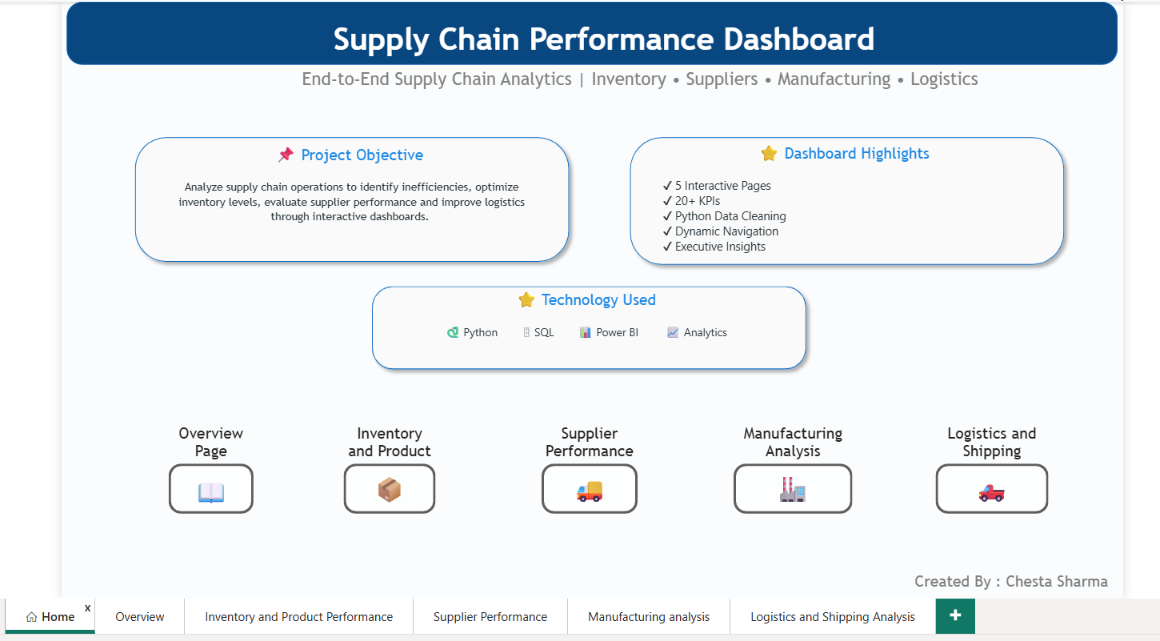

What the dashboard file says about the page in this screenshot:
{"tool":"powerbi","page":{"name":"Home","canvas":[1280,720],"ordinal":0},"visuals":[{"type":"shape","box":[6,0,1268,76],"z":0},{"type":"shape","box":[79.6,154.4,541.7,168.2],"z":0,"group":"g2"},{"type":"shape","box":[676.8,154.4,541.7,171.9],"z":0,"group":"g3"},{"type":"shape","box":[365.6,334.2,541.7,118.2],"z":0,"group":"g4"},{"type":"actionButton","title":"Overview Page","box":[129.1,509.1,102.5,108.6],"z":0,"group":"g1"},{"type":"textbox","box":[312.5,0,684.1,142.4],"z":1000},{"type":"textbox","box":[720.2,164.3,447.6,244.6],"z":1000,"group":"g3"},{"type":"textbox","box":[129.1,166.6,441.6,143.8],"z":1000,"group":"g2"},{"type":"textbox","box":[409,341,447.6,168.2],"z":1000,"group":"g4"},{"type":"actionButton","title":"Inventory and Product","box":[340.2,509.1,111,108.6],"z":1000,"group":"g1"},{"type":"group","id":"g1","title":"Group 1","box":[129.1,509.1,1061.7,108.6],"z":2000},{"type":"actionButton","title":"Supplier Performance","box":[579.1,509.1,115.8,108.6],"z":2000,"group":"g1"},{"type":"textbox","box":[260.6,76,874.7,66.4],"z":3000},{"type":"actionButton","title":"Manufacturing Analysis","box":[810.7,509.1,143.6,108.6],"z":3000,"group":"g1"},{"type":"group","id":"g2","title":"Group 2","box":[79.6,154.4,544.1,179.8],"z":4000},{"type":"actionButton","title":"Logistics and Shipping","box":[1054.4,509.1,136.3,108.6],"z":4000,"group":"g1"},{"type":"group","id":"g3","title":"Group 2","box":[676.8,154.4,544.1,257],"z":5000},{"type":"group","id":"g4","title":"Group 2","box":[365.6,334.2,544.1,176.1],"z":6000},{"type":"textbox","box":[1012.2,682.8,267.8,37.4],"z":6001}]}

Visuals, with their boxes on the page's 1280x720 design canvas (x1, y1, x2, y2). These are canvas units, not pixel positions in the 1160x641 screenshot, which may show the page scaled, cropped or inside an application window:
shape: 6:0:1274:76
shape: 80:154:621:323
shape: 677:154:1218:326
shape: 366:334:907:452
"Overview Page" actionButton: 129:509:232:618
textbox: 312:0:997:142
textbox: 720:164:1168:409
textbox: 129:167:571:310
textbox: 409:341:857:509
"Inventory and Product" actionButton: 340:509:451:618
"Group 1" group: 129:509:1191:618
"Supplier Performance" actionButton: 579:509:695:618
textbox: 261:76:1135:142
"Manufacturing Analysis" actionButton: 811:509:954:618
"Group 2" group: 80:154:624:334
"Logistics and Shipping" actionButton: 1054:509:1191:618
"Group 2" group: 677:154:1221:411
"Group 2" group: 366:334:910:510
textbox: 1012:683:1280:720
